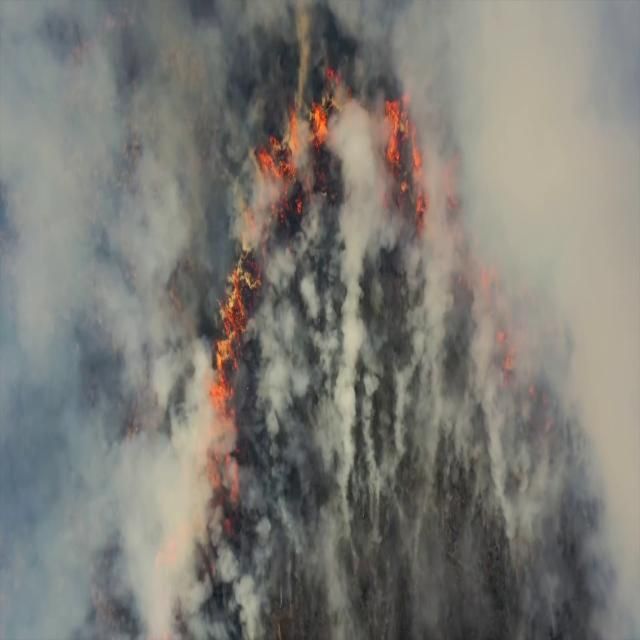Fire: (382, 91, 425, 225), (209, 270, 243, 426), (254, 130, 299, 200), (308, 73, 344, 144)
Smoke: (1, 0, 192, 331), (475, 14, 640, 289)
